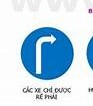Turn_right: (20, 26, 75, 81)
